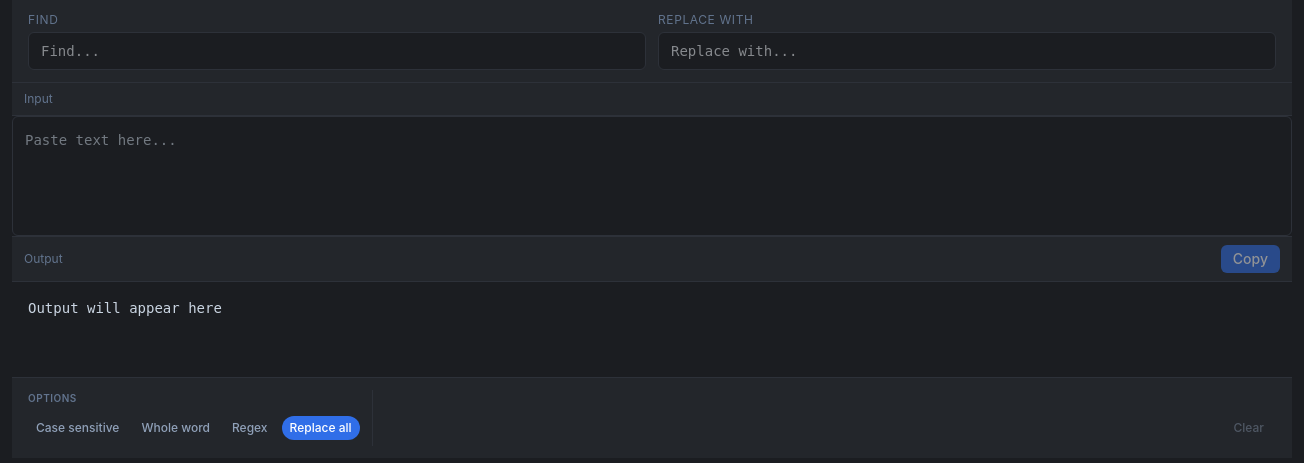
Scenario: FindReplaceTool › case sensitive toggle — off matches both, on matches only lowercase
Type "Cat and cat" into the text box named "text to search in". click: point(652, 176)
box: [13,117,1291,235]
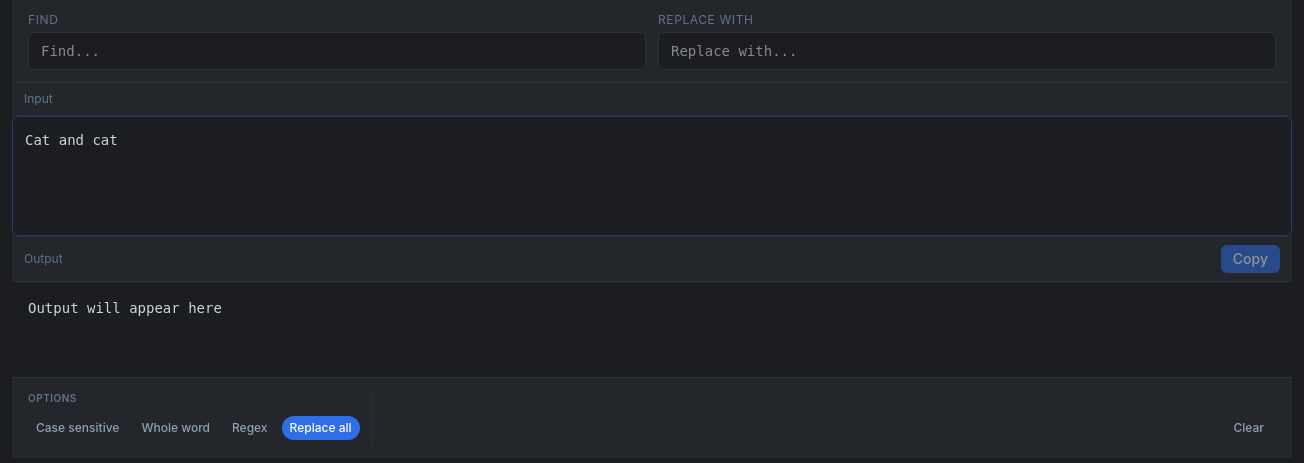
Type "cat" into the field labelled "Find...". click: point(337, 51)
box: [28,32,646,70]
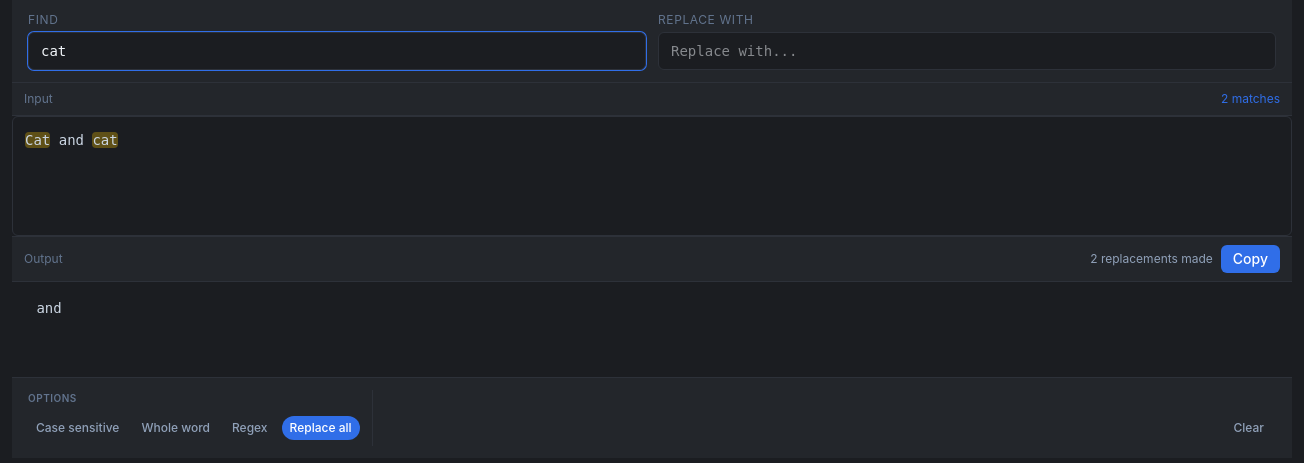
Expected: the text "2 matches" is shown, [1221,91,1280,107]
Click the button "Case sensitive". click: point(78, 428)
box: [28,416,127,440]
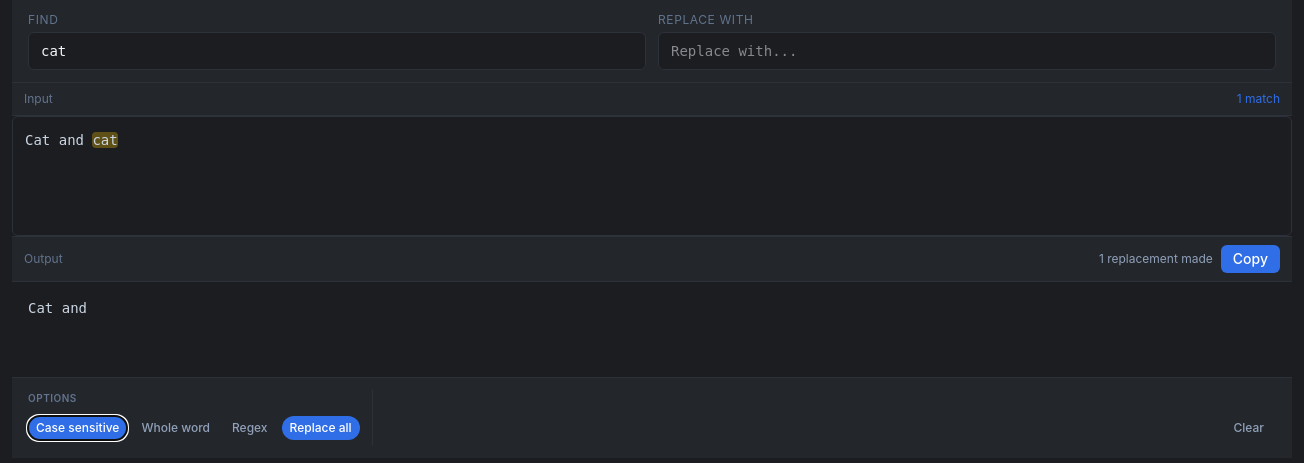
Expected: the text "1 match" is shown, [1237,91,1280,107]
